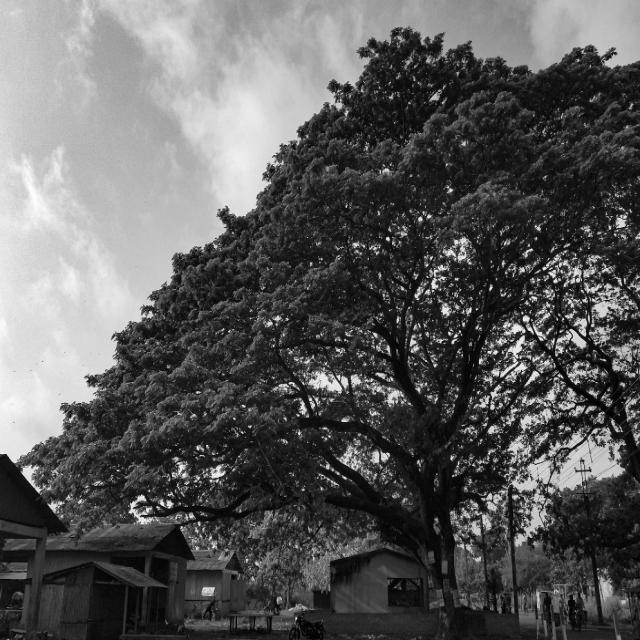Acacia: (18, 19, 640, 569)
